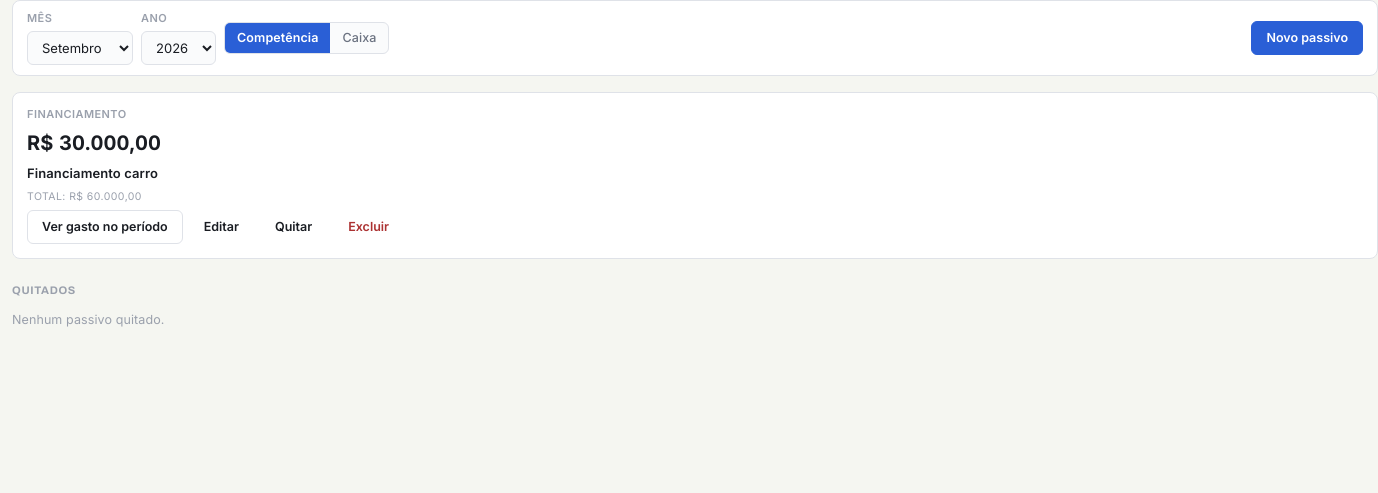
Test: LiabilitiesPage › toggling Competência/Caixa refetches por-passivo with the selected regime
Expected: the text "Financiamento carro" is shown, x1=27 y1=165 x2=158 y2=181
Click the button "Ver gasto no período" at (105, 227), box x1=27 y1=210 x2=183 y2=244
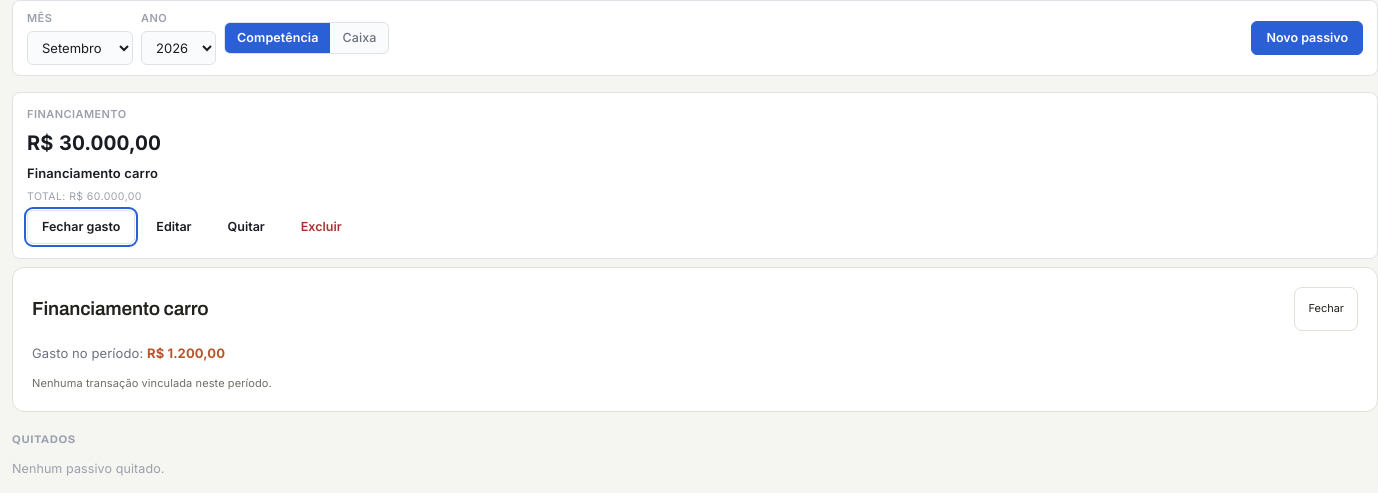
Expected: the text "R$ 1.200,00" is shown, x1=147 y1=345 x2=225 y2=361
Click the button "Caixa" at (359, 38), box x1=330 y1=23 x2=388 y2=53
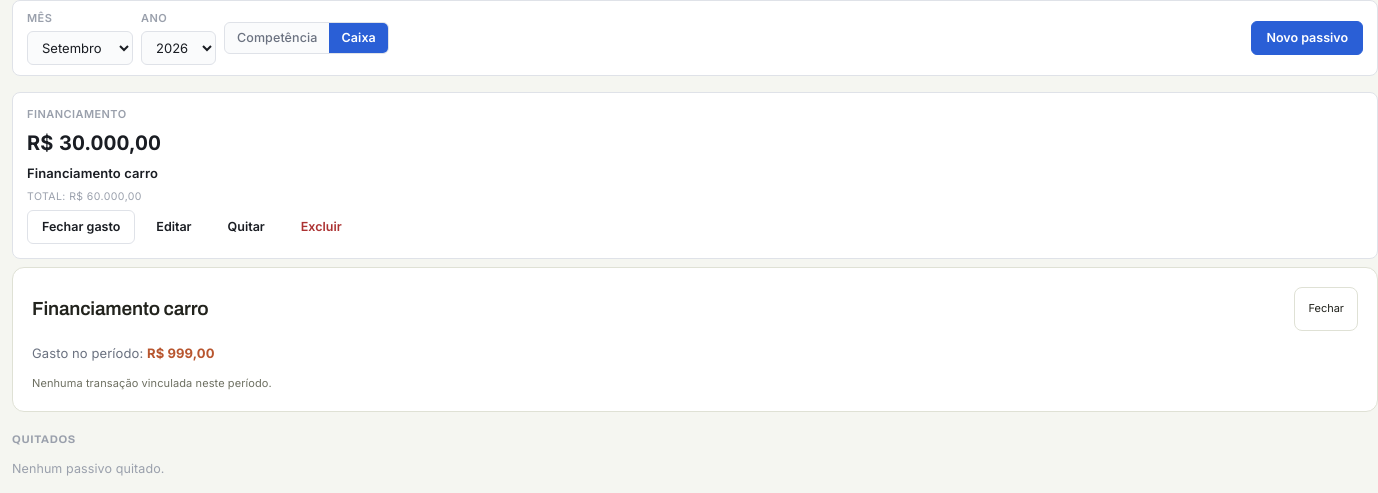
Expected: the text "R$ 999,00" is shown, x1=147 y1=345 x2=214 y2=361
